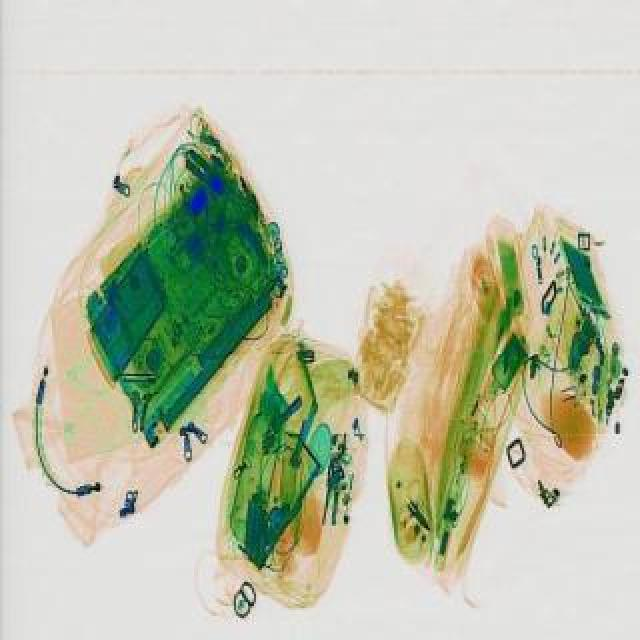knife: (400, 494, 440, 534)
